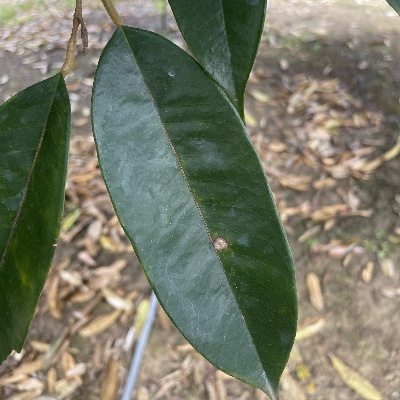Leaf_Phomopsis: (89, 0, 300, 400)
